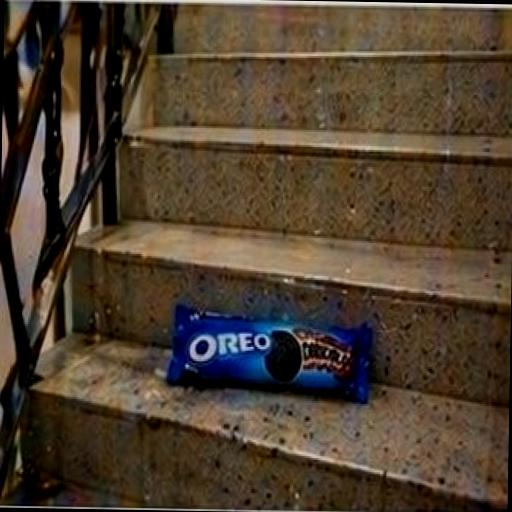oreo: (132, 236, 422, 466)
